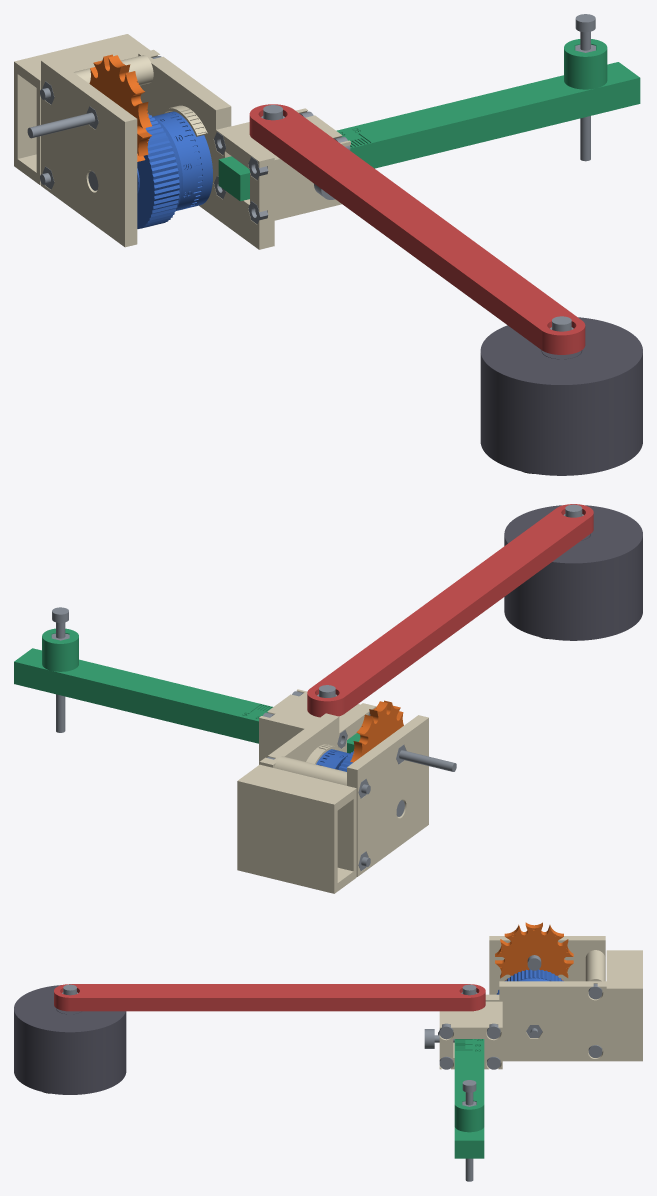
Rendered from planimeter_assembly.glb.
The picture shows the model from 3 angles, top to bottom: view 1: azimuth 30°, elevation 25°; view 2: azimuth 150°, elevation 25°; view 3: azimuth 270°, elevation 25°; orthographic projection. The views are drawn at different scales.
Parts seen in each view (by area): view 1: pole_arm, tracer_arm, pole_weight, carriage_b, carriage_c, pole_weight_lid, wheel, carriage_a, dial, tracer_bolt, dial_screw; view 2: carriage_b, pole_arm, tracer_arm, pole_weight, carriage_c, pole_weight_lid, carriage_a, dial, tracer_bolt, dial_screw, wheel; view 3: carriage_b, pole_arm, pole_weight, tracer_arm, pole_weight_lid, dial, carriage_c, carriage_a, wheel, tracer_bolt.
Boxes of the visible parts, <box> form: pole_arm: <box>249,104,585,354</box>; tracer_arm: <box>218,39,640,201</box>; pole_weight: <box>480,350,642,475</box>; carriage_b: <box>14,34,274,249</box>; carriage_c: <box>41,55,153,247</box>; pole_weight_lid: <box>480,317,642,391</box>; wheel: <box>137,111,212,228</box>; carriage_a: <box>232,108,350,220</box>; dial: <box>89,54,151,161</box>; tracer_bolt: <box>575,14,595,161</box>; dial_screw: <box>27,112,95,138</box>; carriage_b: <box>237,703,376,893</box>; pole_arm: <box>307,504,593,717</box>; tracer_arm: <box>14,628,360,753</box>; pole_weight: <box>504,534,642,640</box>; carriage_c: <box>274,715,428,876</box>; pole_weight_lid: <box>504,505,642,568</box>; carriage_a: <box>259,689,360,764</box>; dial: <box>350,700,403,762</box>; tracer_bolt: <box>52,607,68,732</box>; dial_screw: <box>399,750,456,771</box>; wheel: <box>316,749,354,771</box>; carriage_b: <box>485,950,642,1061</box>; pole_arm: <box>54,984,485,1011</box>; pole_weight: <box>14,1008,126,1094</box>; tracer_arm: <box>454,1039,484,1158</box>; pole_weight_lid: <box>14,985,126,1036</box>; dial: <box>495,922,573,980</box>; carriage_c: <box>489,936,605,994</box>; carriage_a: <box>439,1001,502,1069</box>; wheel: <box>496,969,563,994</box>; tracer_bolt: <box>462,1080,476,1181</box>.
Bounding box in the file's own units: 177 × 50.76 × 252.
